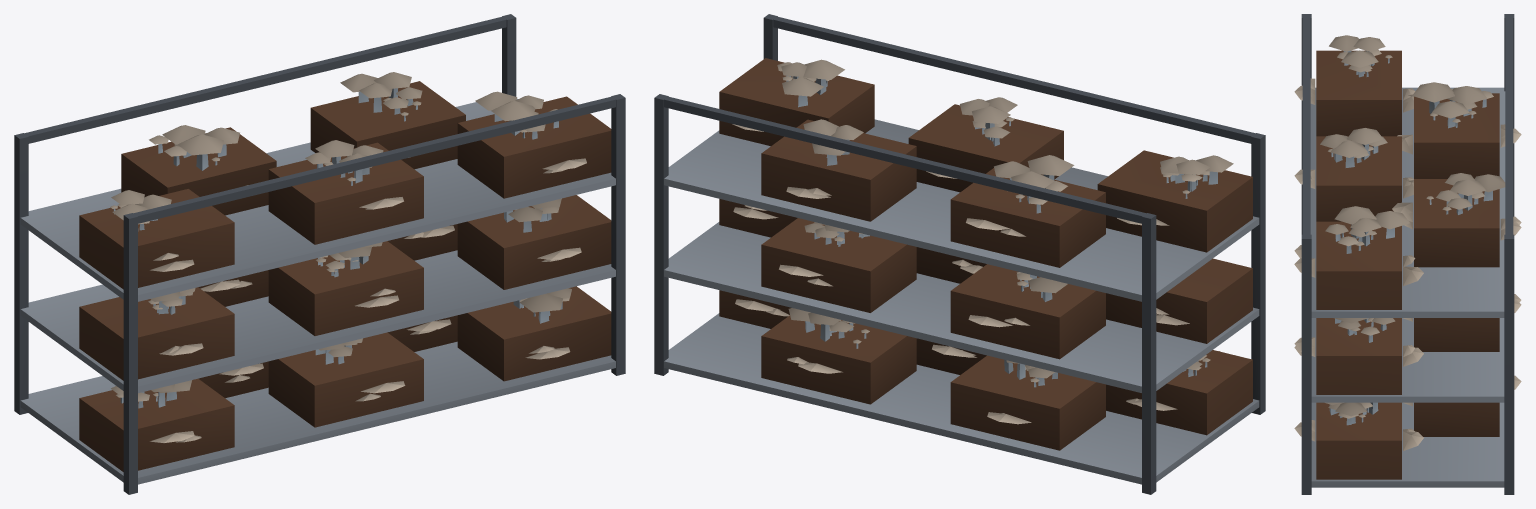
File: crop_mushroom.glb
The picture shows the model from 3 angles, left to right: view 1: azimuth 30°, elevation 25°; view 2: azimuth 150°, elevation 25°; view 3: azimuth 270°, elevation 25°; orthographic projection. The views are drawn at different scales.
Parts seen in each view (by area): view 1: Stage1, Stage3, Stage2; view 2: Stage1, Stage3, Stage2; view 3: Stage1, Stage3, Stage2.
Boxes of the visible parts, x1,y1,x2,y2 form: Stage1: [14, 14, 625, 494]; Stage3: [111, 72, 586, 442]; Stage2: [111, 87, 569, 442]; Stage1: [654, 14, 1265, 494]; Stage3: [732, 59, 1233, 424]; Stage2: [744, 62, 1209, 413]; Stage1: [1301, 14, 1514, 494]; Stage3: [1294, 35, 1521, 450]; Stage2: [1310, 49, 1505, 433].
Bounding box in the file's own units: 2.73 × 1.45 × 1.17.
